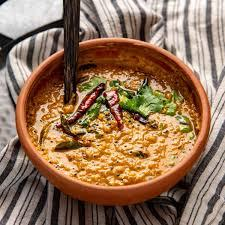Dhal Curry: (41, 53, 197, 189)
